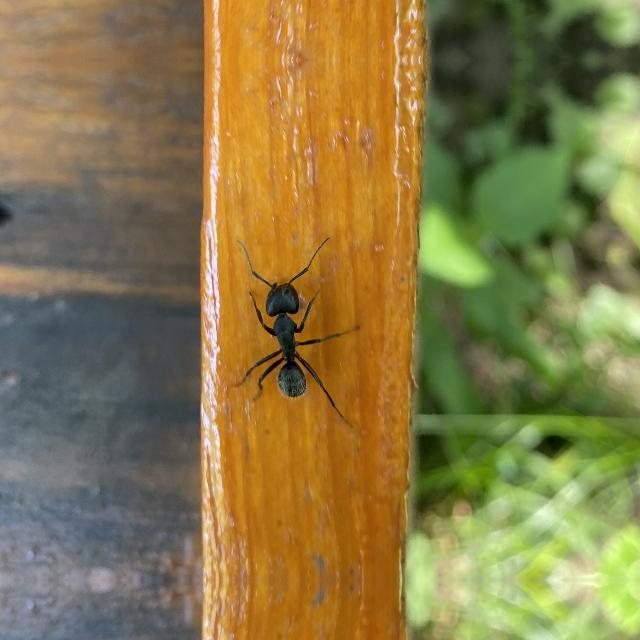Camponotus: (226, 240, 362, 418)
